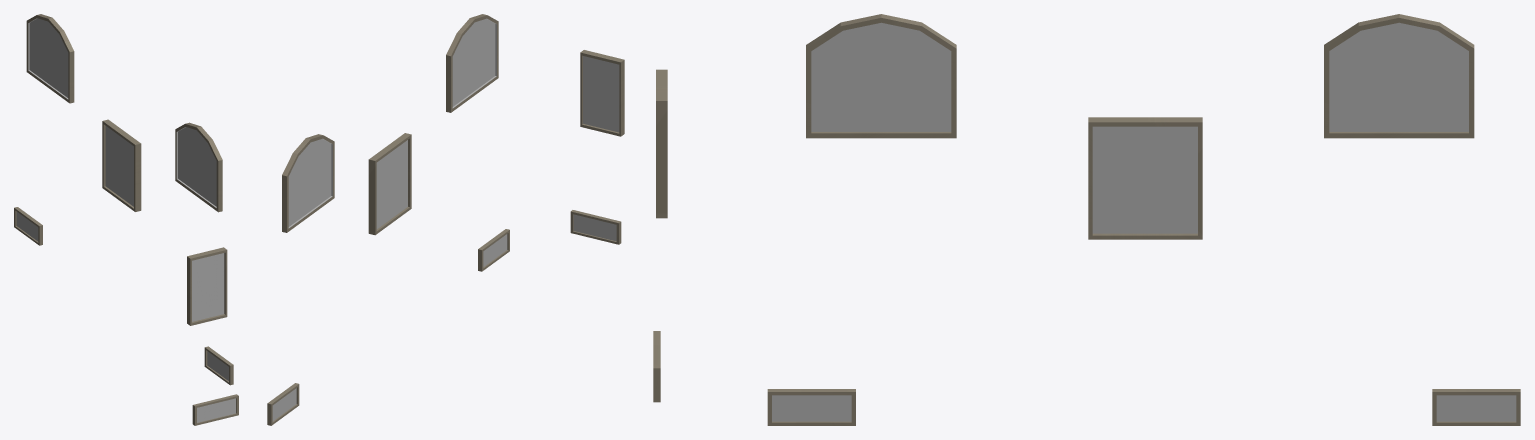
Rendered from Windows_Meshes.fbx.
3 views of the same model, side by side, from view 1: azimuth 30°, elevation 25°; view 2: azimuth 150°, elevation 25°; view 3: azimuth 270°, elevation 25° (orthographic). The views are drawn at different scales.
Visible parts, largest first — view 1: WindowLargeTop1, WindowLargeTop, WindowLargeTopMiddle1, WindowLargeTopMiddle, Window2, Window, Window1; view 2: WindowLargeTop1, WindowLargeTop, WindowLargeTopMiddle, WindowLargeTopMiddle1, Window2, Window1, Window; view 3: WindowLargeTop, WindowLargeTop1, WindowLargeTopMiddle, Window1, Window, WindowLargeTopMiddle1.
Boxes of the visible parts, x1=… form: WindowLargeTop1: x1=26, y1=14, x2=74, y2=103; WindowLargeTop: x1=175, y1=122, x2=222, y2=212; WindowLargeTopMiddle1: x1=187, y1=247, x2=227, y2=325; WindowLargeTopMiddle: x1=102, y1=119, x2=141, y2=211; Window2: x1=192, y1=394, x2=238, y2=425; Window: x1=204, y1=346, x2=233, y2=385; Window1: x1=14, y1=207, x2=42, y2=245; WindowLargeTop1: x1=282, y1=134, x2=334, y2=232; WindowLargeTop: x1=446, y1=14, x2=498, y2=112; WindowLargeTopMiddle: x1=368, y1=133, x2=411, y2=235; WindowLargeTopMiddle1: x1=580, y1=50, x2=624, y2=136; Window2: x1=570, y1=210, x2=621, y2=244; Window1: x1=267, y1=383, x2=299, y2=425; Window: x1=478, y1=229, x2=509, y2=271; WindowLargeTop: x1=806, y1=14, x2=956, y2=138; WindowLargeTop1: x1=1324, y1=14, x2=1474, y2=138; WindowLargeTopMiddle: x1=1088, y1=117, x2=1202, y2=239; Window1: x1=1432, y1=389, x2=1520, y2=425; Window: x1=767, y1=389, x2=855, y2=425; WindowLargeTopMiddle1: x1=656, y1=69, x2=667, y2=218.
Bounding box in the file's own units: 351 × 1041 × 2006.
2 materials, 1 textured.
